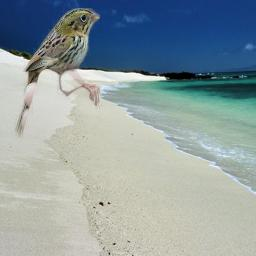Sparrow: (13, 8, 100, 138)
